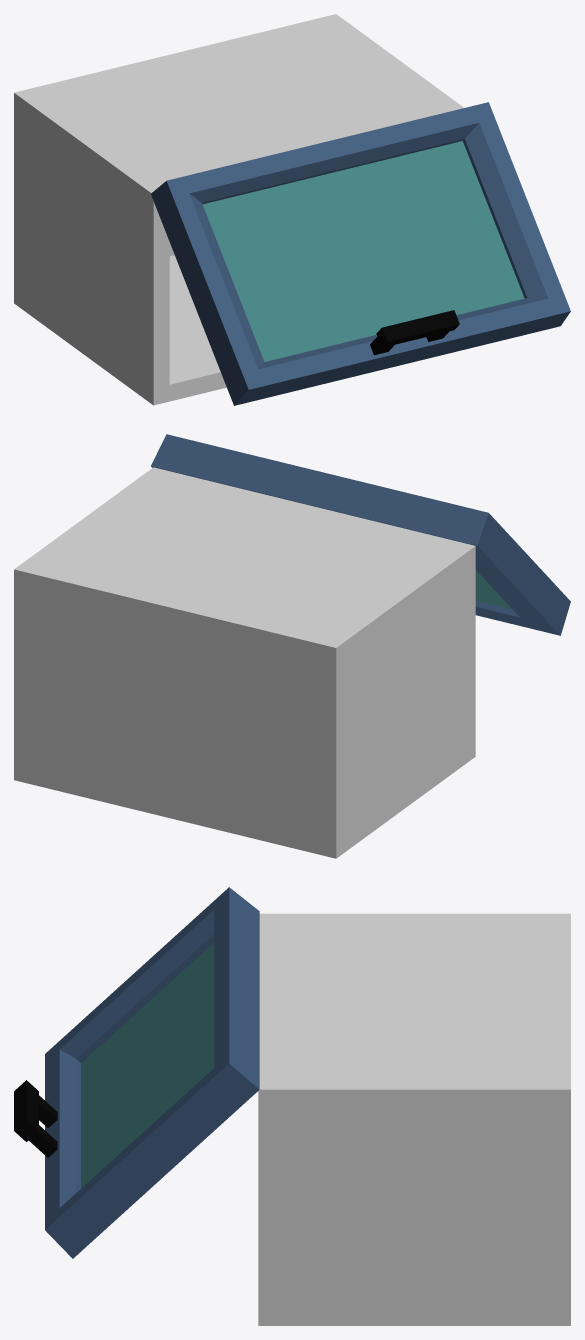
The model's file is Case2_Open.fbx.
3 views of the same model, one above another, from view 1: azimuth 30°, elevation 25°; view 2: azimuth 150°, elevation 25°; view 3: azimuth 270°, elevation 25° (orthographic). The views are drawn at different scales.
Parts seen in each view (by area): view 1: pCube380; view 2: pCube380; view 3: pCube380.
Part boxes in pixels (bbox=[...]): pCube380: bbox=[14, 14, 570, 405]; pCube380: bbox=[14, 434, 570, 858]; pCube380: bbox=[14, 887, 570, 1325].
Bounding box in the file's own units: 81.1 × 107 × 55.6.
